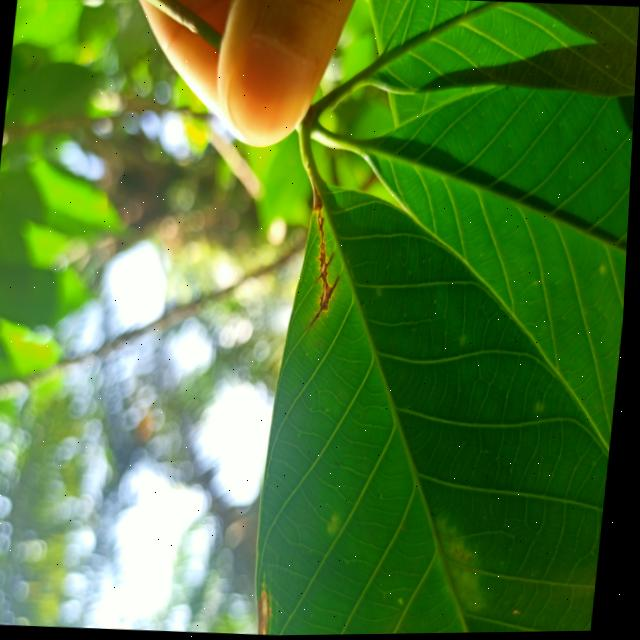Corynespora: (309, 211, 348, 332)
